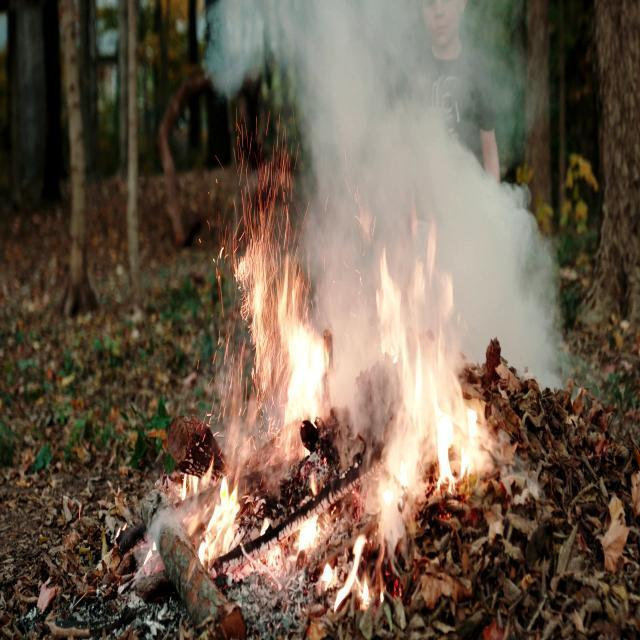Fire: (253, 224, 513, 606), (152, 456, 291, 608)
Smoke: (201, 0, 554, 299)
